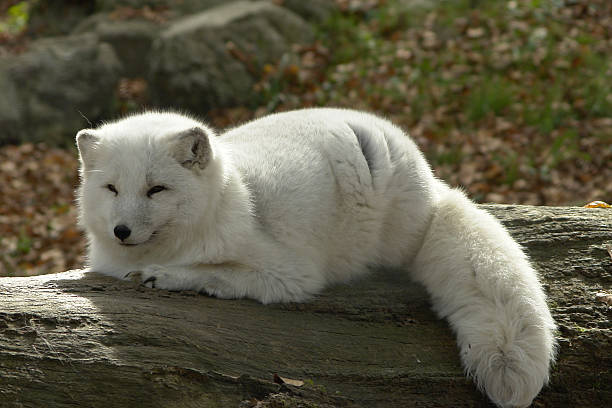arcticfox: (78, 143, 219, 265)
